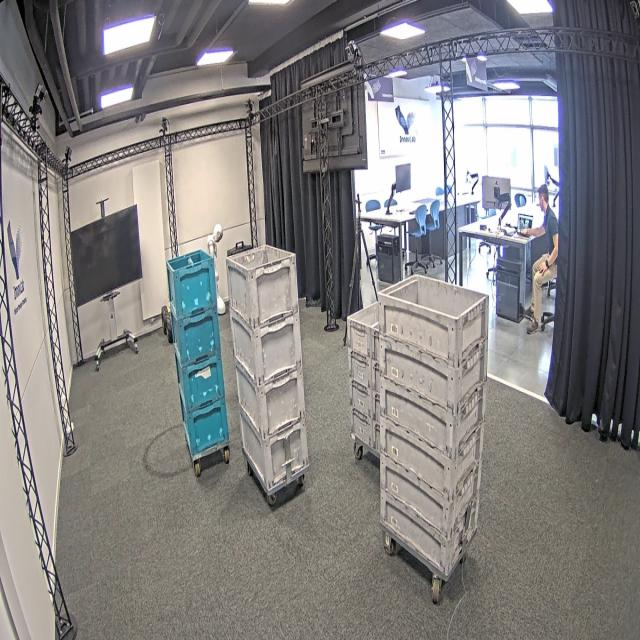Box3G: (380, 274, 485, 367), (377, 333, 488, 414), (380, 414, 482, 501), (379, 378, 484, 460), (380, 457, 481, 539), (380, 487, 471, 574)
Box4G: (240, 405, 310, 493), (228, 246, 299, 330), (235, 362, 308, 440), (231, 312, 304, 385)
Box8G: (348, 301, 380, 362), (348, 348, 377, 392), (350, 377, 378, 421), (351, 406, 378, 451)
BoxB4: (164, 252, 217, 322), (169, 307, 221, 368), (181, 399, 232, 457), (175, 354, 225, 412)
